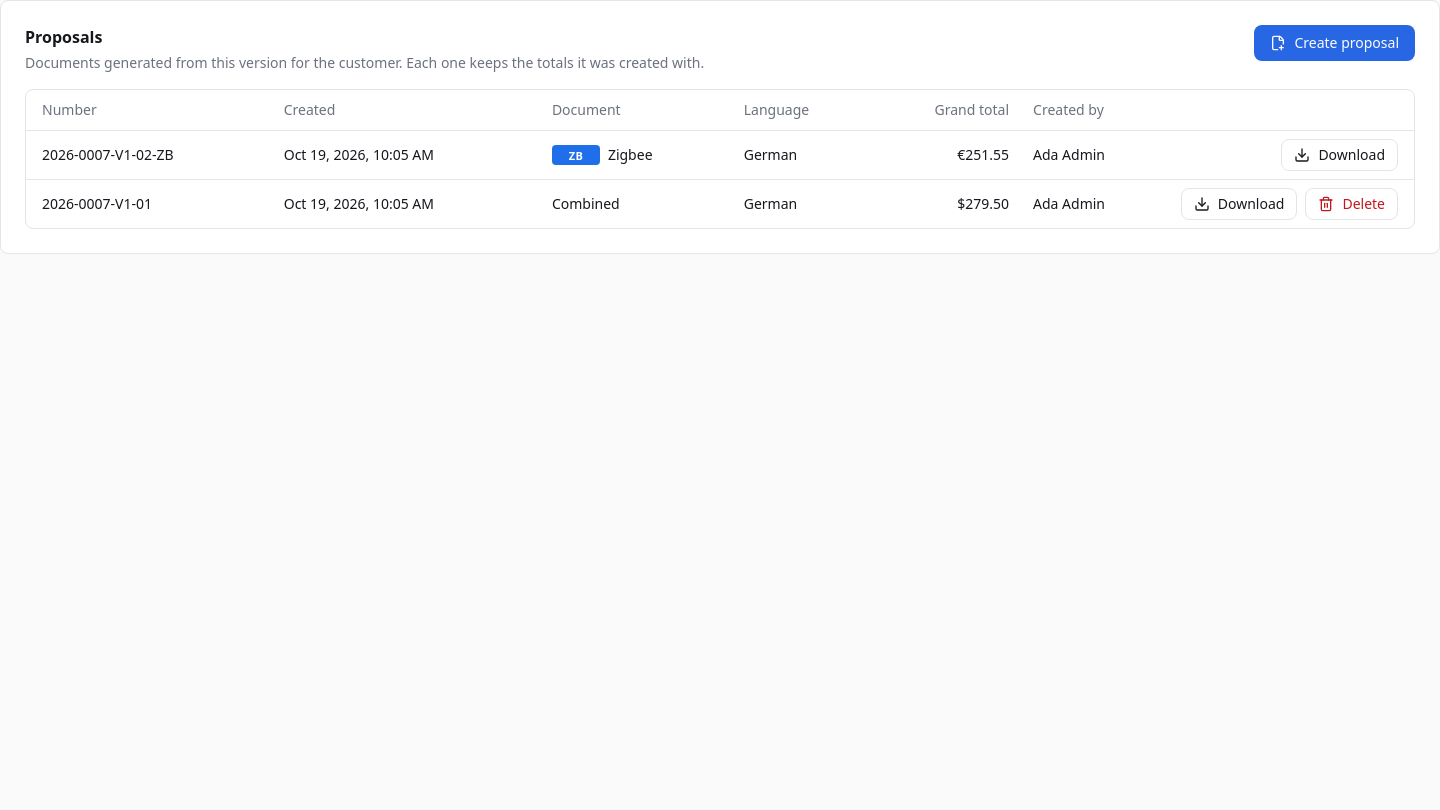
Scenario: ProposalsTab › deletes a proposal after confirming
This screenshot has width=1440, height=810.
Step 1. Click the button "Delete" → (1352, 204), box [1305,188,1398,220]
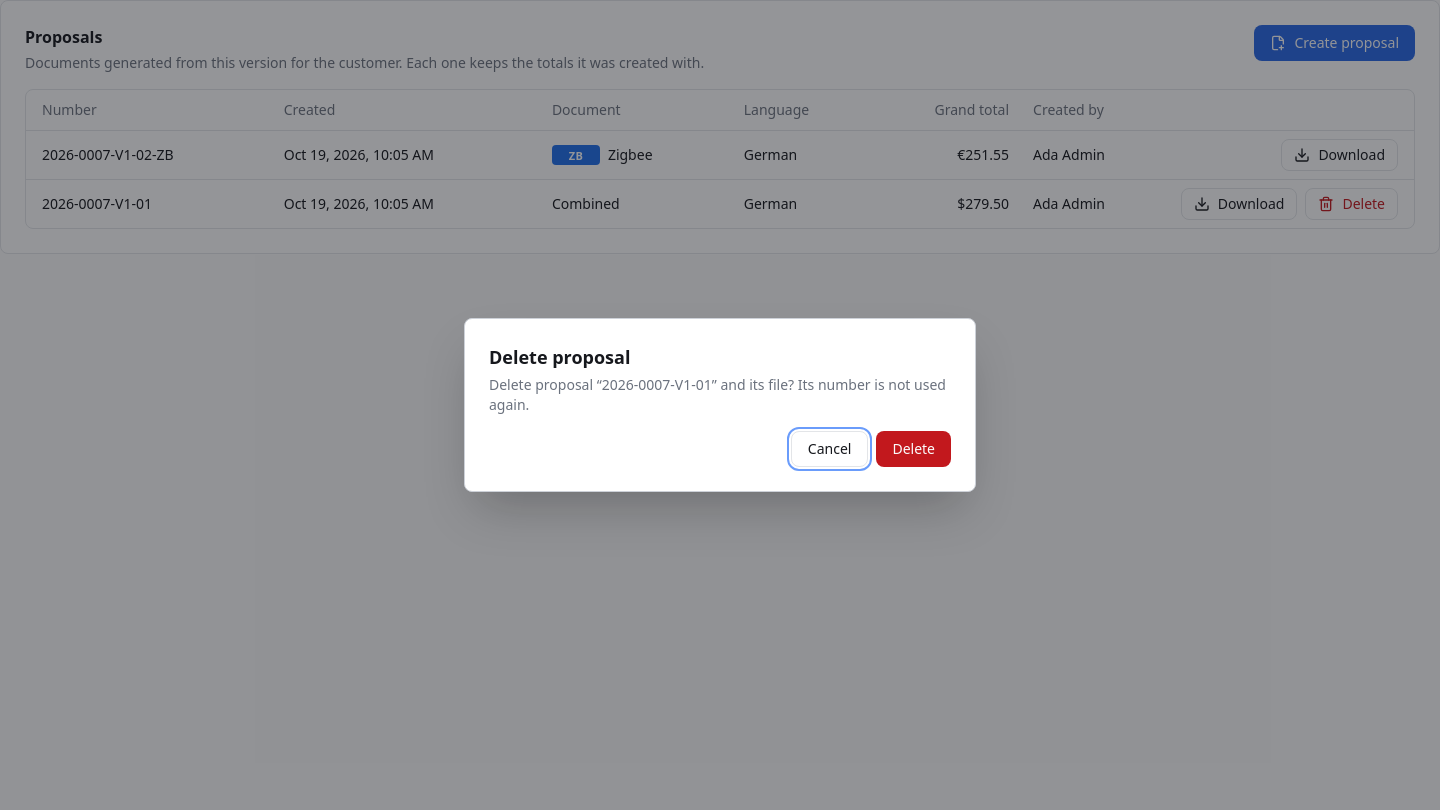
Expected: the dialog "Delete proposal" shows "2026-0007-V1-01", [489,375,946,414]
Step 2. Click the button "Delete" → (914, 449), box [876,431,951,467]
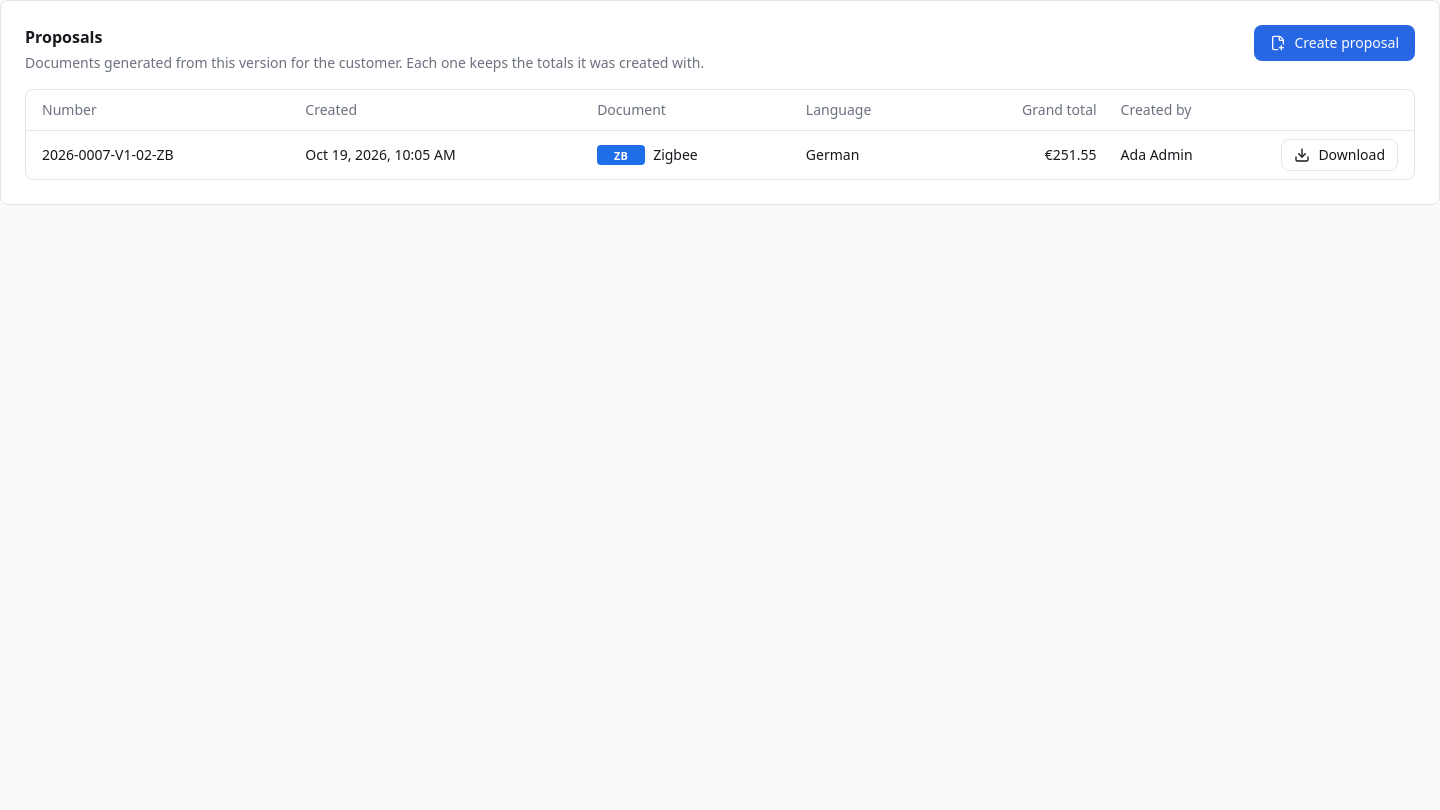
Expected: the text "2026-0007-V1-02-ZB" is shown, [42,145,174,164]
Expected: the text "2026-0007-V1-01" is gone
